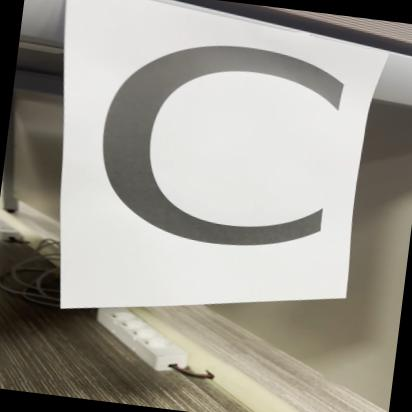seat: (38, 0, 395, 314)
